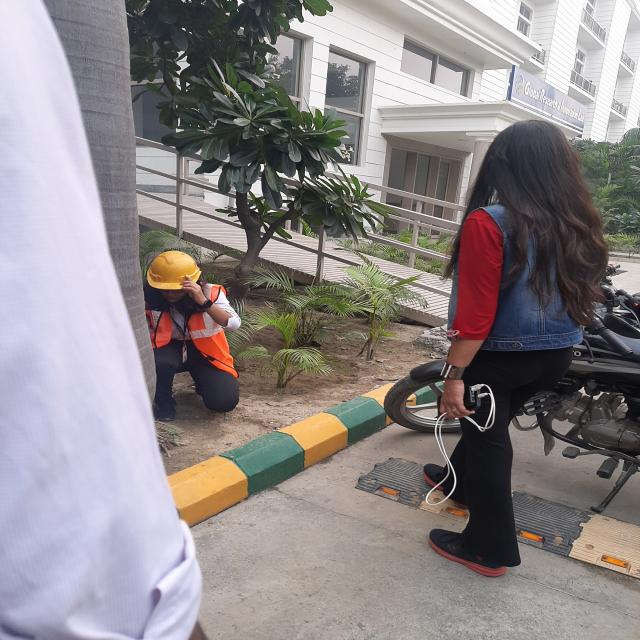safe: (136, 248, 244, 424)
unsafe: (425, 114, 614, 577)
